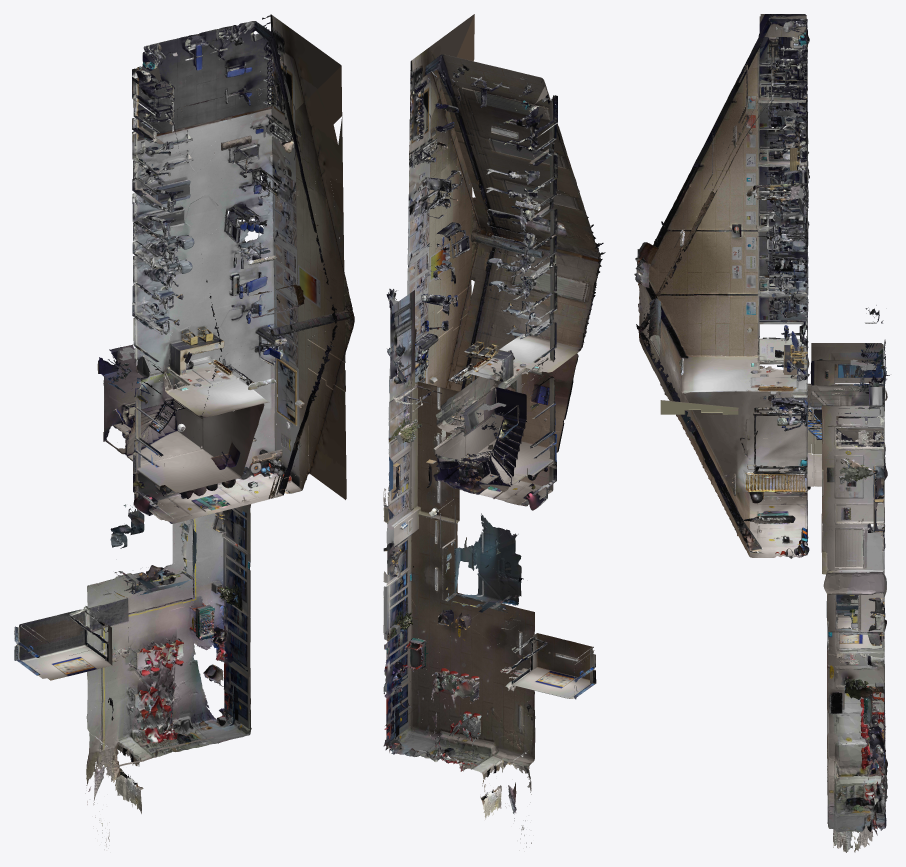
3 renders of one model, left to right at view 1: azimuth 30°, elevation 25°; view 2: azimuth 150°, elevation 25°; view 3: azimuth 270°, elevation 25°, orthographic. The views are drawn at different scales.
Size of the model in its own units: 11.67 by 40.44 by 11.15.
68 materials, 68 textured.
